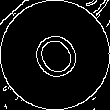O_SE: (23, 22, 87, 88)
